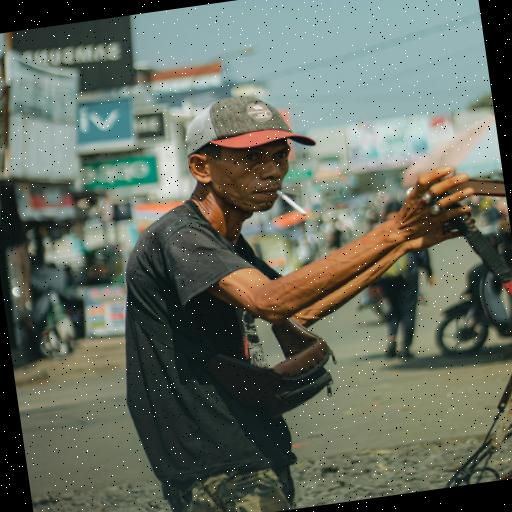dataset-deteksi-merokok: (208, 124, 318, 231)
